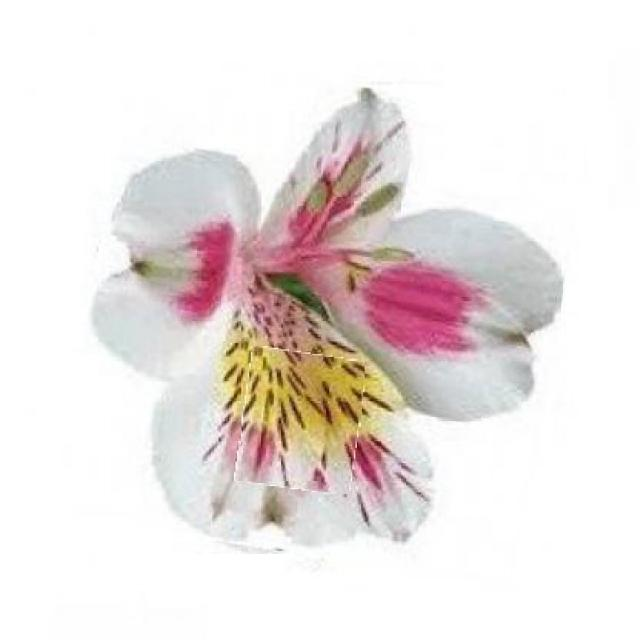Flower: (71, 66, 574, 574), (240, 350, 363, 492)
